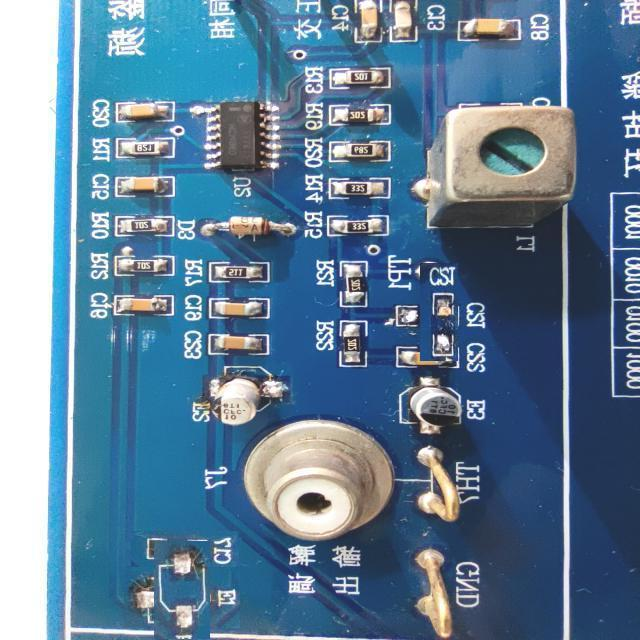miss_welding: (138, 556, 225, 640), (405, 278, 474, 346), (130, 530, 239, 567)
